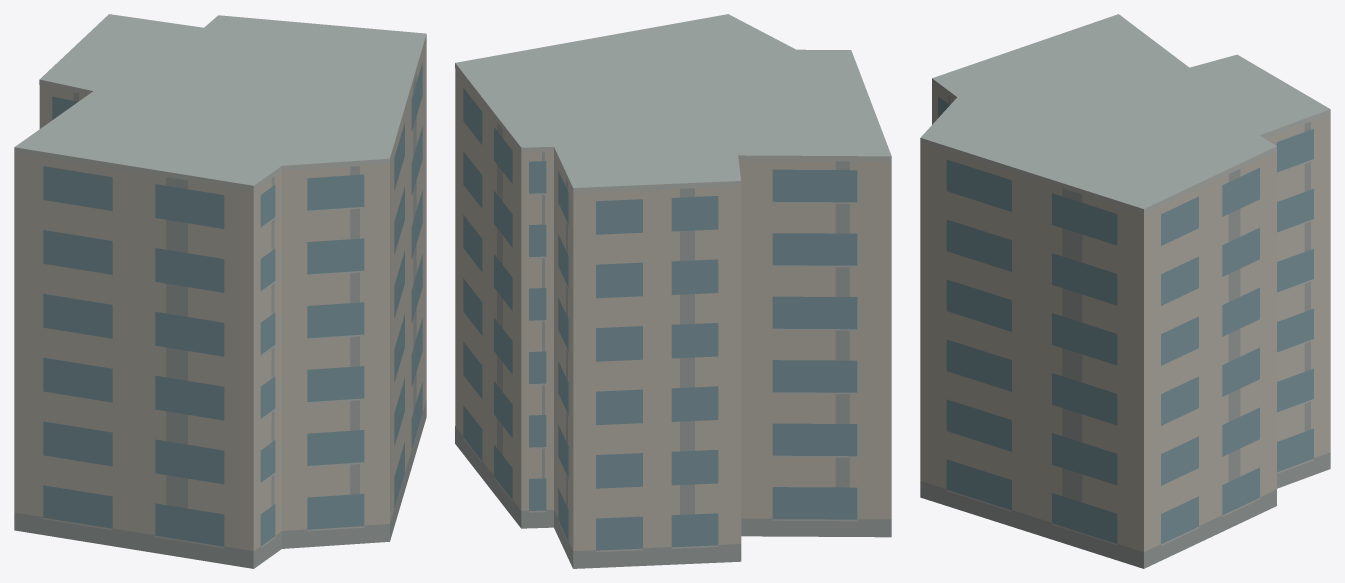
Rendered from survey-upis-33037540.glb.
The picture shows the model from 3 angles, left to right: view 1: azimuth 30°, elevation 25°; view 2: azimuth 150°, elevation 25°; view 3: azimuth 270°, elevation 25°; orthographic projection. The views are drawn at different scales.
Parts seen in each view (by area): view 1: survey-upis-33037540.tmp; view 2: survey-upis-33037540.tmp; view 3: survey-upis-33037540.tmp.
Boxes of the visible parts, x1=… form: survey-upis-33037540.tmp: x1=14, y1=14, x2=426, y2=568; survey-upis-33037540.tmp: x1=455, y1=14, x2=891, y2=568; survey-upis-33037540.tmp: x1=920, y1=14, x2=1330, y2=568.
Size of the model in its own units: 20.02 by 17.2 by 17.78.
